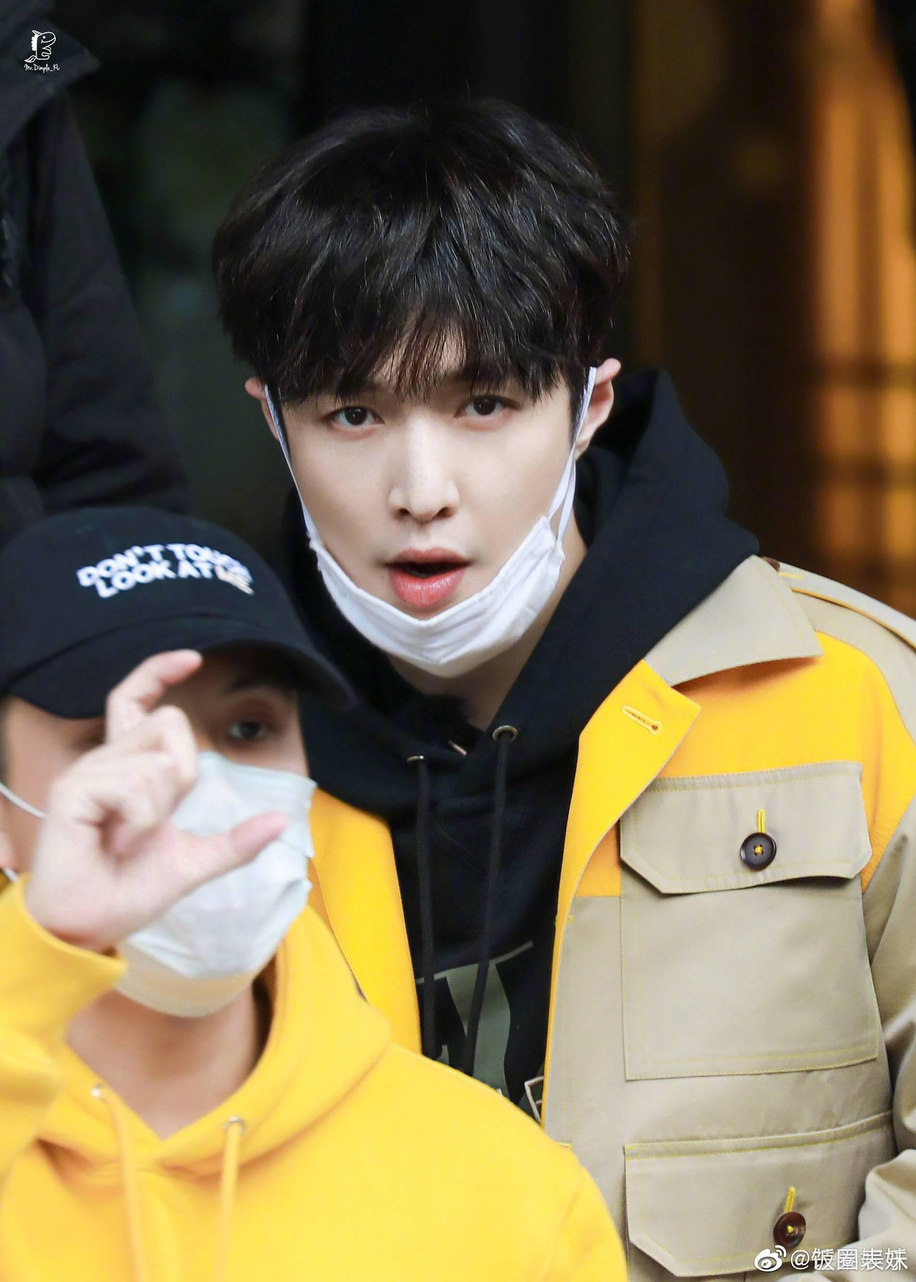OK: (13, 649, 310, 1013)
WRONG: (279, 328, 570, 662)
